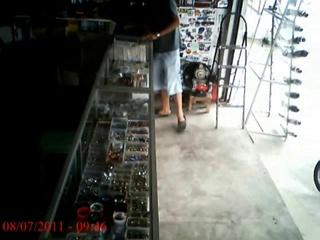Normal: (142, 1, 187, 132)
